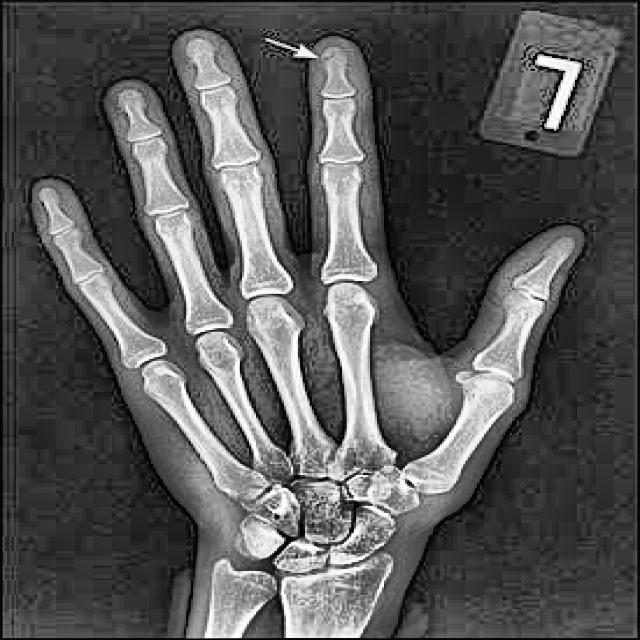fracture: (321, 49, 345, 65)
